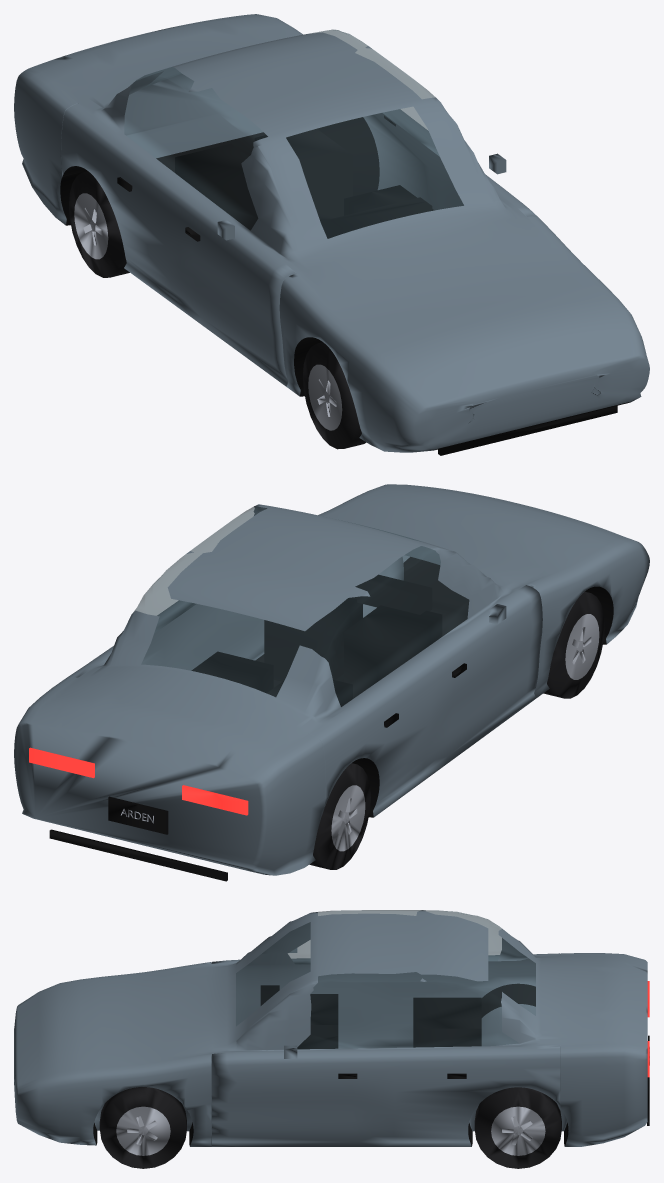
File: arden_civic_lod0.glb
3 views of the same model, one above another, from view 1: azimuth 30°, elevation 25°; view 2: azimuth 150°, elevation 25°; view 3: azimuth 270°, elevation 25° (orthographic). The views are drawn at different scales.
Parts seen in each view (by area): view 1: arden_civic_lod0; view 2: arden_civic_lod0; view 3: arden_civic_lod0.
Part boxes in pixels (bbox=[...]): arden_civic_lod0: bbox=[14, 14, 649, 455]; arden_civic_lod0: bbox=[14, 484, 649, 881]; arden_civic_lod0: bbox=[14, 910, 649, 1168].
Size of the model in its own units: 1.9 by 1.45 by 4.67.
